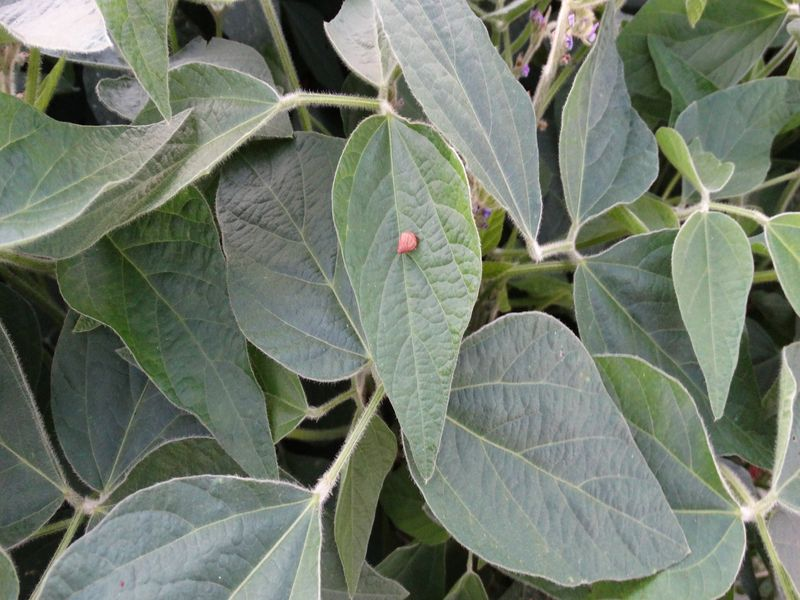Gastropoda: (381, 220, 433, 265)
